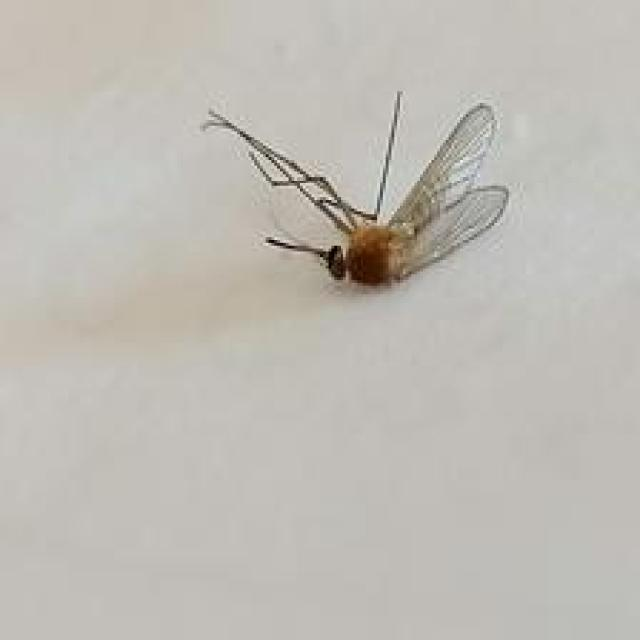Culex: (200, 88, 511, 292)
